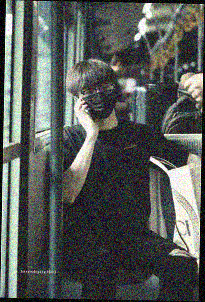with_mask: (78, 79, 117, 120)
